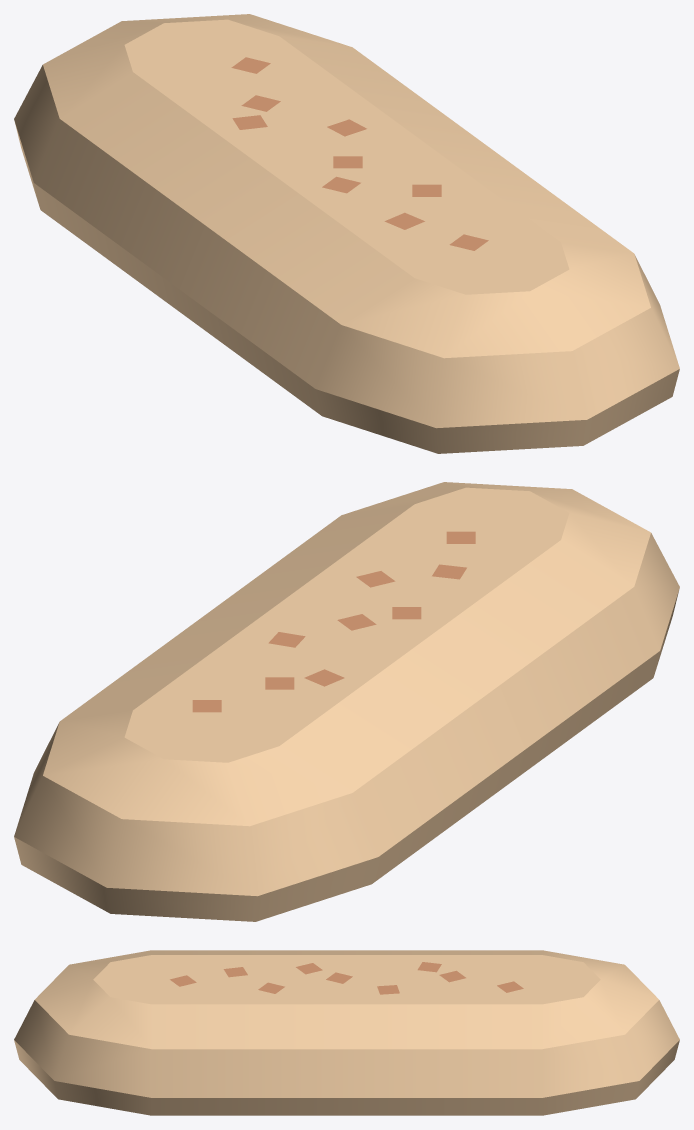
The model's file is bread.obj.
3 renders of one model, top to bottom at view 1: azimuth 30°, elevation 25°; view 2: azimuth 150°, elevation 25°; view 3: azimuth 270°, elevation 25°, orthographic. The views are drawn at different scales.
Parts seen in each view (by area): view 1: bread; view 2: bread; view 3: bread.
Part boxes in pixels (x1=…): bread: x1=14, y1=14, x2=679, y2=453; bread: x1=14, y1=482, x2=679, y2=921; bread: x1=14, y1=950, x2=679, y2=1115.
Size of the model in its own units: 0.2733 by 0.0876 by 0.6602.
